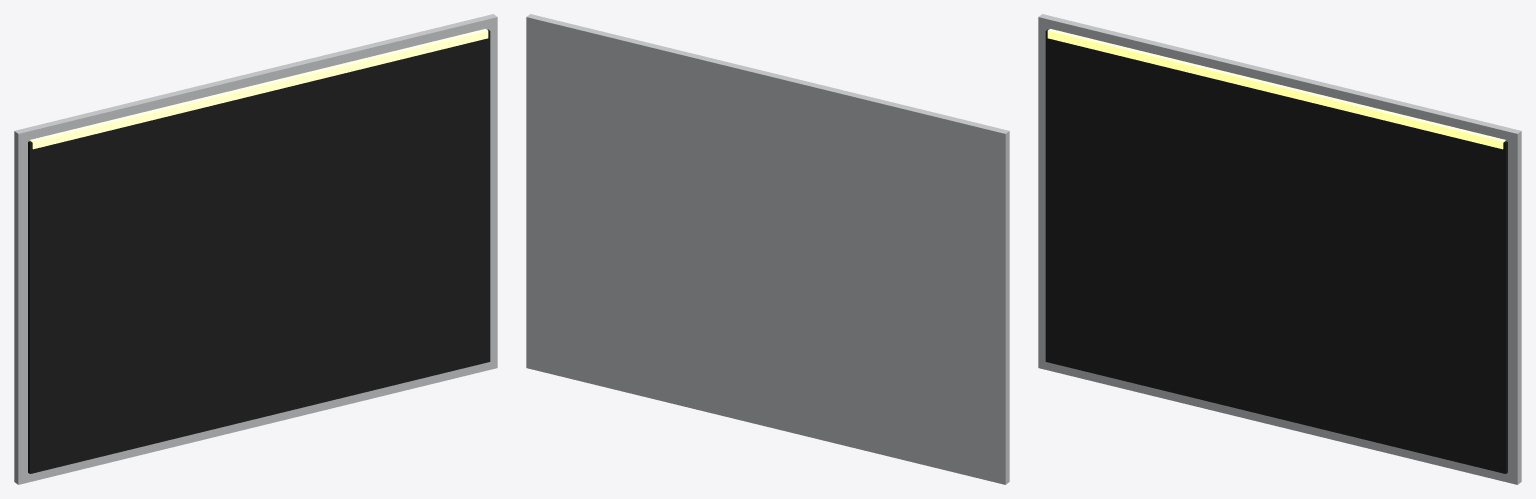
Rendered from BTH-0053.glb.
3 renders of one model, left to right at view 1: azimuth 30°, elevation 25°; view 2: azimuth 150°, elevation 25°; view 3: azimuth 330°, elevation 25°, orthographic.
Visible parts, largest first — view 1: flat-mirror; view 2: flat-mirror; view 3: flat-mirror.
Boxes of the visible parts, x1=… form: flat-mirror: x1=14, y1=14, x2=497, y2=484; flat-mirror: x1=526, y1=14, x2=1009, y2=484; flat-mirror: x1=1038, y1=14, x2=1521, y2=484.
Size of what is drawn, in the model's own units: 1 by 0.7 by 0.025.
